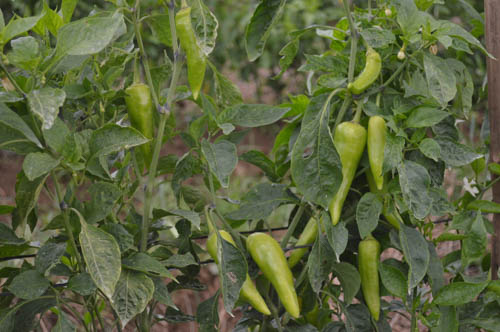ChiliPepper: (205, 235, 271, 316), (245, 229, 303, 317), (326, 124, 364, 229), (176, 8, 209, 102), (124, 83, 159, 157), (354, 237, 383, 319), (286, 219, 318, 271), (366, 116, 388, 191), (374, 182, 406, 230), (348, 50, 378, 100)
